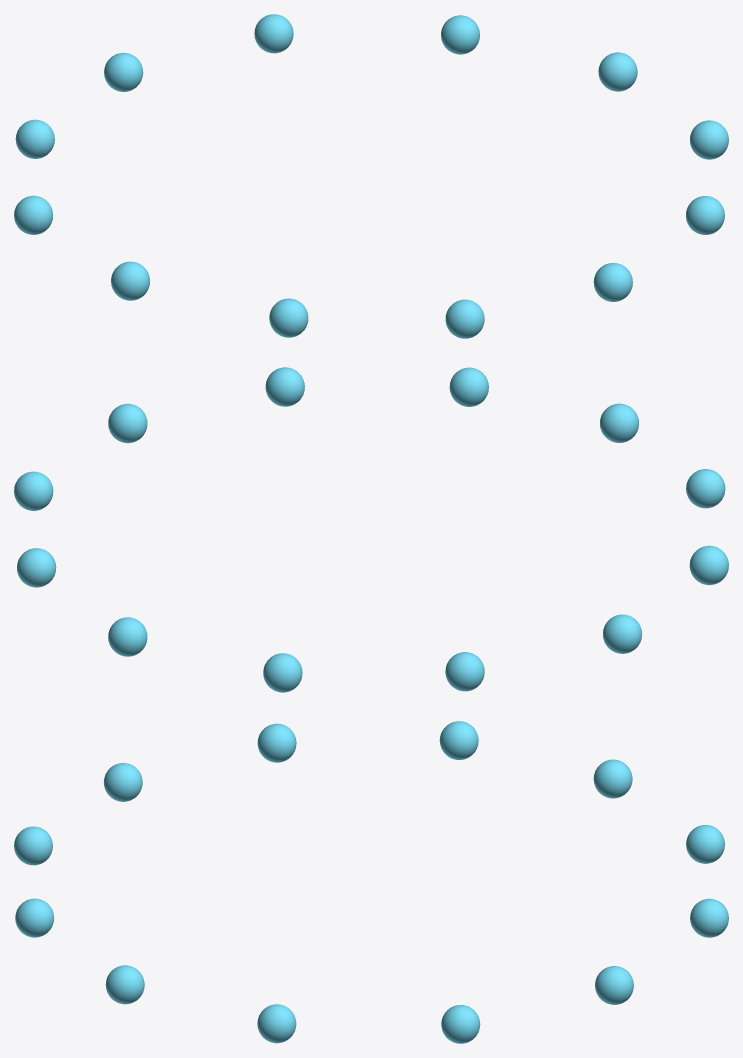
The picture shows the model from 3 angles, top to bottom: view 1: azimuth 30°, elevation 25°; view 2: azimuth 150°, elevation 25°; view 3: azimuth 270°, elevation 25°; orthographic projection.
Parts seen in each view (by area): view 1: Sphere049; view 2: Sphere049; view 3: Sphere049.
Part boxes in pixels (x1,y1,x2,y2): Sphere049: (14, 14, 728, 338); Sphere049: (14, 367, 728, 692); Sphere049: (14, 721, 728, 1043).
Bounding box in the file's own units: 150 × 8.22 × 151.
